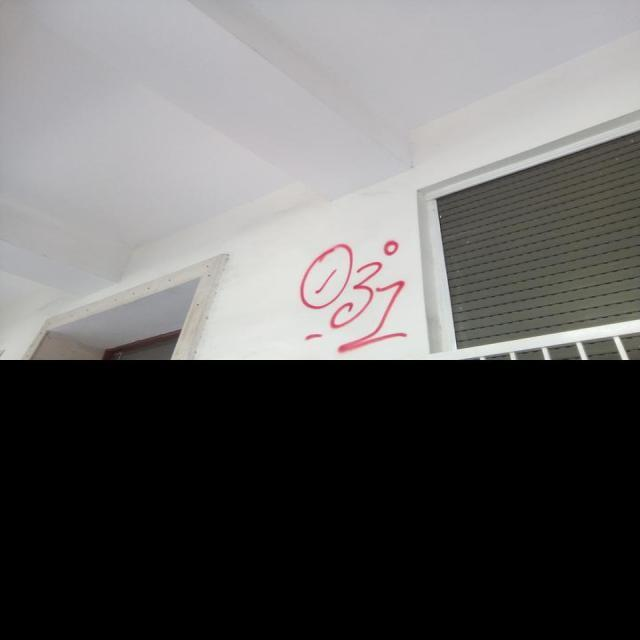nonspitting: (297, 240, 413, 353)
